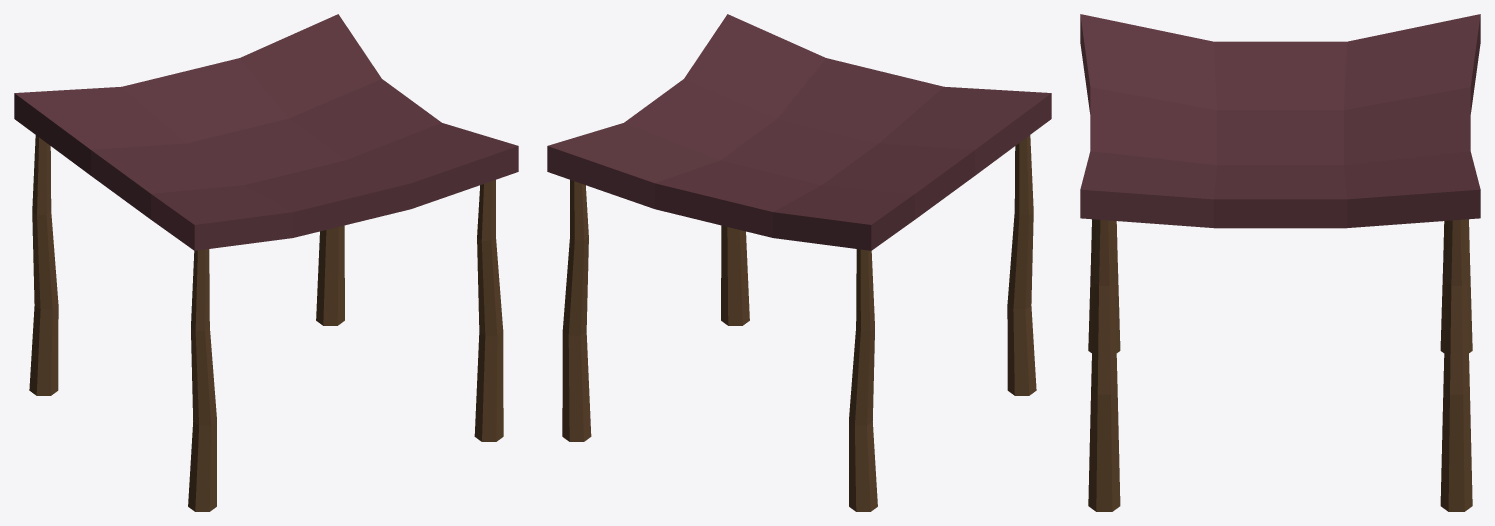
File: egypt-stand-small.fbx
The picture shows the model from 3 angles, left to right: view 1: azimuth 30°, elevation 25°; view 2: azimuth 150°, elevation 25°; view 3: azimuth 270°, elevation 25°; orthographic projection. The views are drawn at different scales.
Visible parts, largest first — view 1: egypt-stand-small; view 2: egypt-stand-small; view 3: egypt-stand-small.
Part boxes in pixels (left/top/right/bottom): egypt-stand-small: left=14, top=14, right=518, bottom=511; egypt-stand-small: left=547, top=14, right=1051, bottom=511; egypt-stand-small: left=1080, top=14, right=1480, bottom=511.
Bounding box in the file's own units: 2.49 × 2.16 × 2.4.
